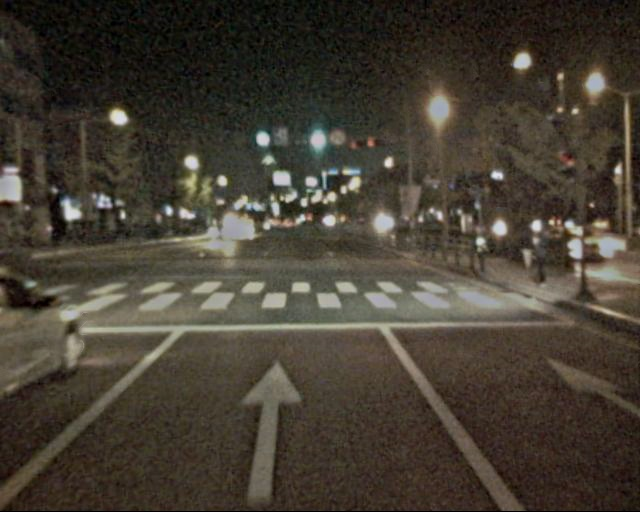person: (527, 227, 554, 292), (467, 225, 493, 288), (514, 222, 537, 279)
